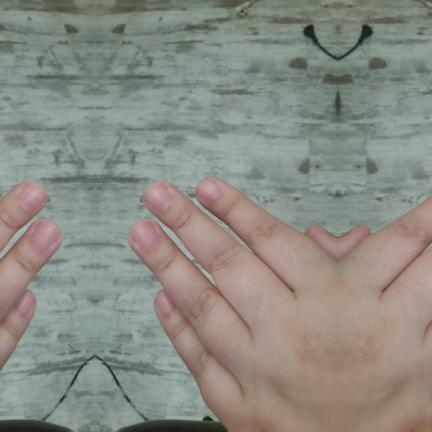Nail: (142, 182, 171, 210), (17, 182, 46, 210), (129, 222, 157, 248), (31, 222, 59, 248), (195, 179, 218, 201), (154, 291, 174, 315), (14, 291, 34, 315), (313, 224, 333, 235), (341, 224, 361, 235)
